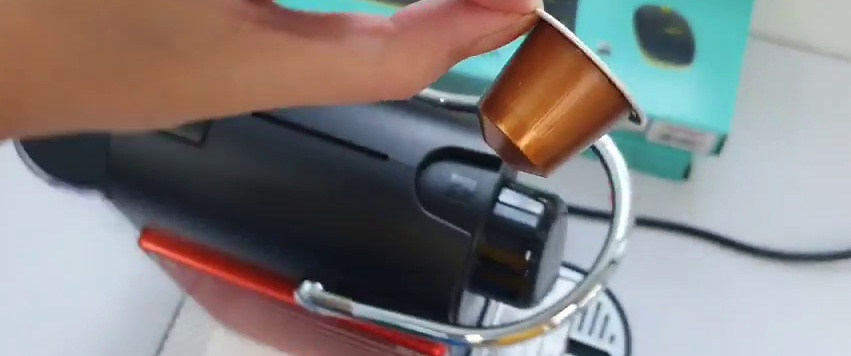capsule_3: (476, 7, 647, 181)
